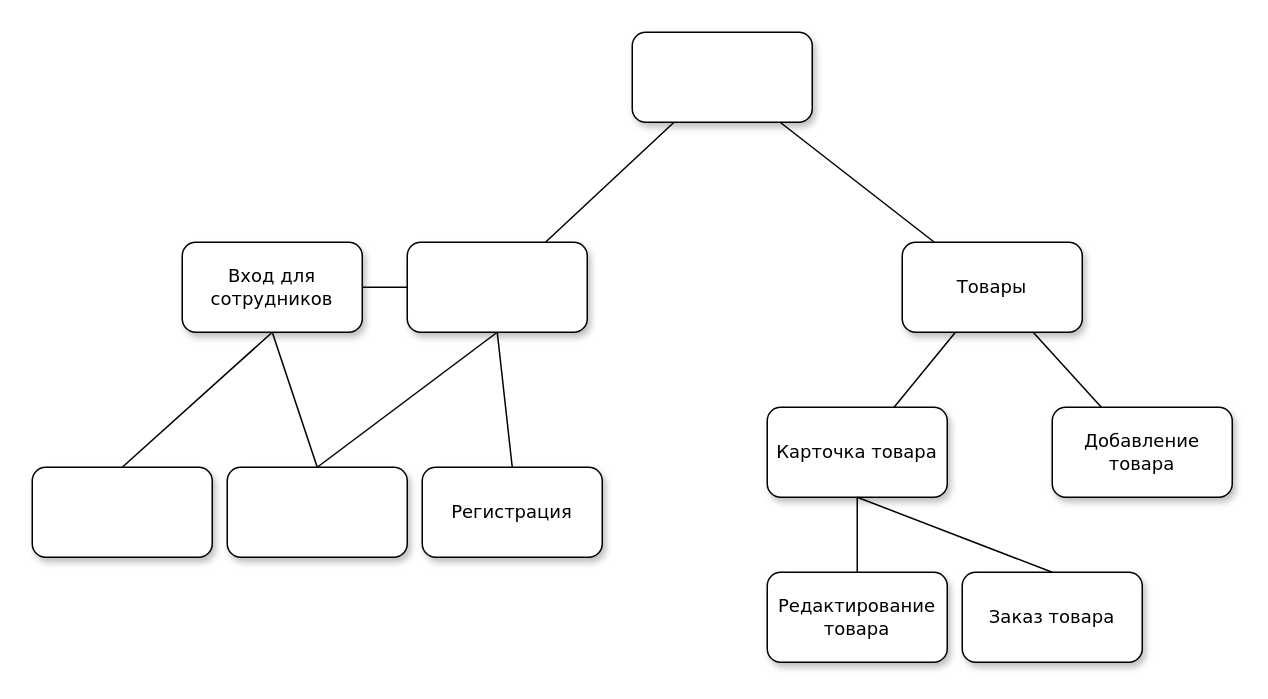
This 1268x699 diagram has some shape labels left out. Each missing label, with the centre of its shape:
Вход: the point at 498,289
Главная: the point at 723,79
Заказы: the point at 318,514
Регистрация сотрудника: the point at 123,514
